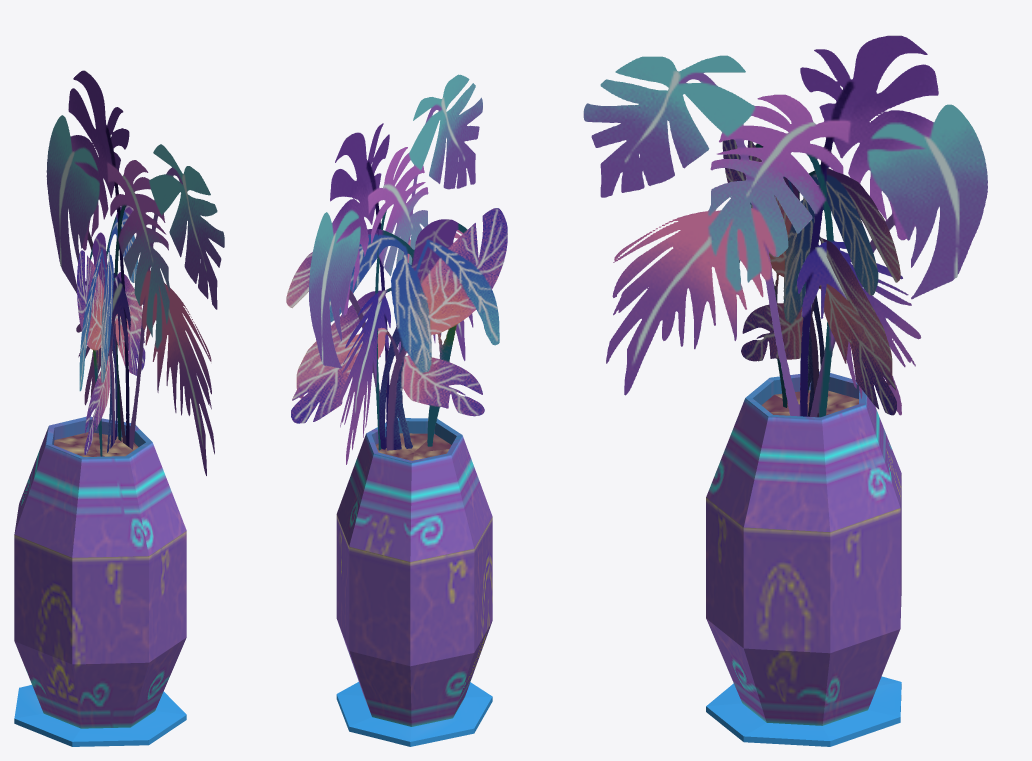
The model's file is Structure_Retro_Pot_03_Art.fbx.
3 renders of one model, left to right at view 1: azimuth 30°, elevation 25°; view 2: azimuth 150°, elevation 25°; view 3: azimuth 270°, elevation 25°, orthographic. The views are drawn at different scales.
Parts seen in each view (by area): view 1: Structure_Retro_Pot_03_Art, Structure_Retro_Pot_03_Art1; view 2: Structure_Retro_Pot_03_Art, Structure_Retro_Pot_03_Art1; view 3: Structure_Retro_Pot_03_Art, Structure_Retro_Pot_03_Art1.
Boxes of the visible parts, bbox=[...] form: Structure_Retro_Pot_03_Art: bbox=[14, 70, 224, 746]; Structure_Retro_Pot_03_Art1: bbox=[47, 70, 224, 472]; Structure_Retro_Pot_03_Art: bbox=[286, 74, 507, 746]; Structure_Retro_Pot_03_Art1: bbox=[287, 75, 507, 450]; Structure_Retro_Pot_03_Art: bbox=[583, 35, 987, 746]; Structure_Retro_Pot_03_Art1: bbox=[585, 35, 987, 417].
Bounding box in the file's own units: 137 × 443 × 255.
